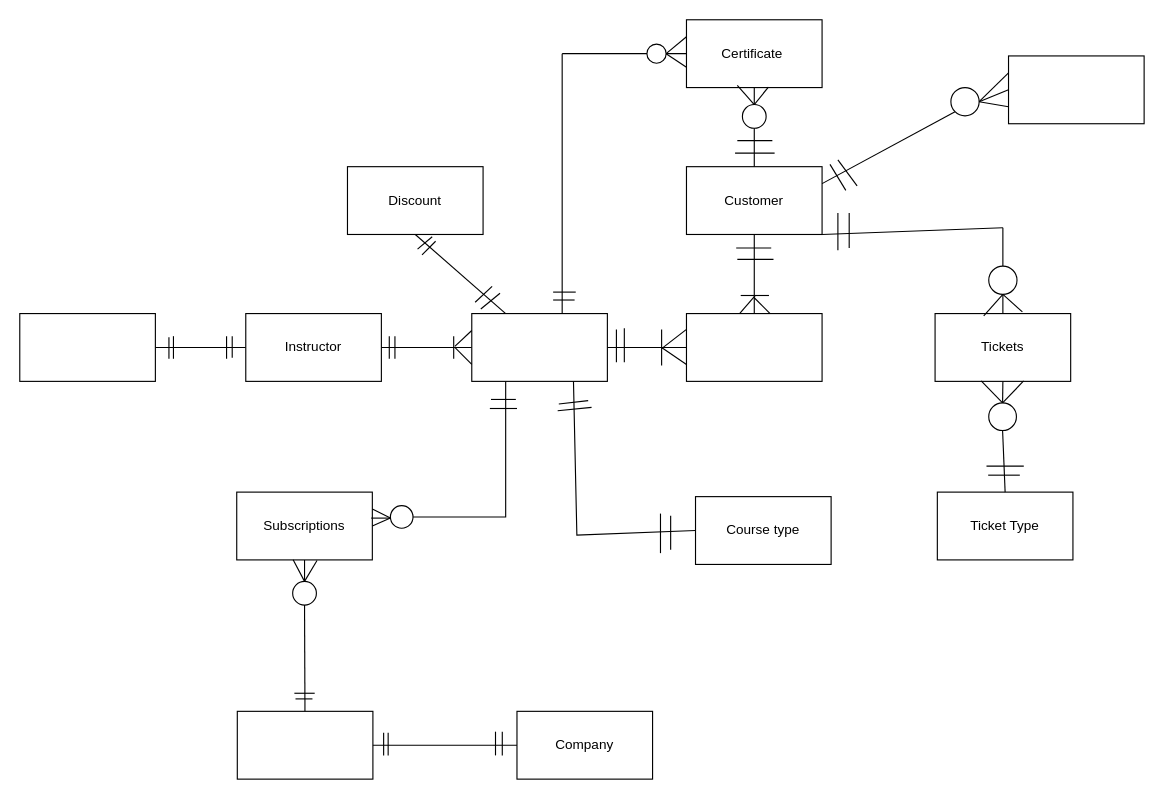
Some shapes in this 1164 by 799 pixel diagram are drawn without their labels. The box of each missing label's shape, as (x1, y1, x2, y2) in pixels:
Contract: (19, 312, 155, 381)
Course: (471, 312, 607, 381)
Customer Library: (1007, 55, 1144, 124)
Payment: (685, 312, 822, 381)
Subscription Type: (236, 710, 373, 779)
